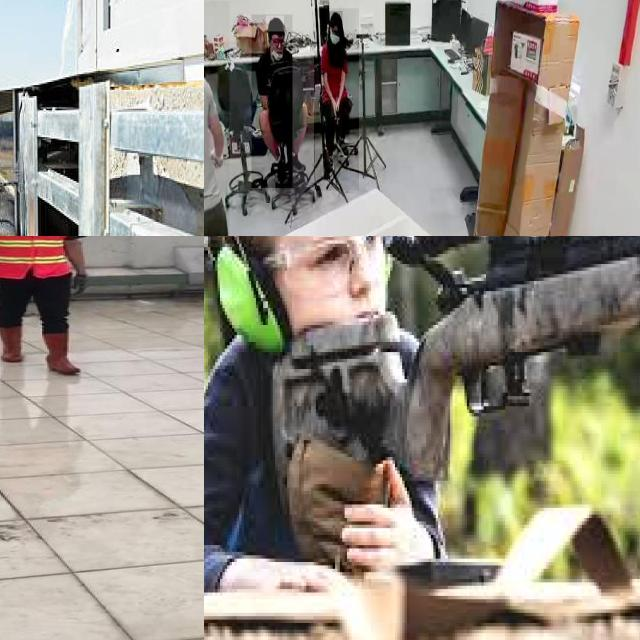Ear-protection: (204, 236, 299, 353)
boots: (42, 330, 80, 374), (0, 325, 24, 363)
face_mask: (329, 30, 341, 52)
hand_noglove: (331, 98, 337, 118), (336, 98, 340, 112)
head_nohelmet: (266, 15, 284, 32), (329, 11, 343, 27)
person: (0, 236, 93, 378), (314, 8, 360, 192), (251, 15, 293, 188), (204, 1, 230, 236)
shoes: (272, 153, 288, 187), (289, 150, 309, 175)
vest: (0, 236, 70, 279)
